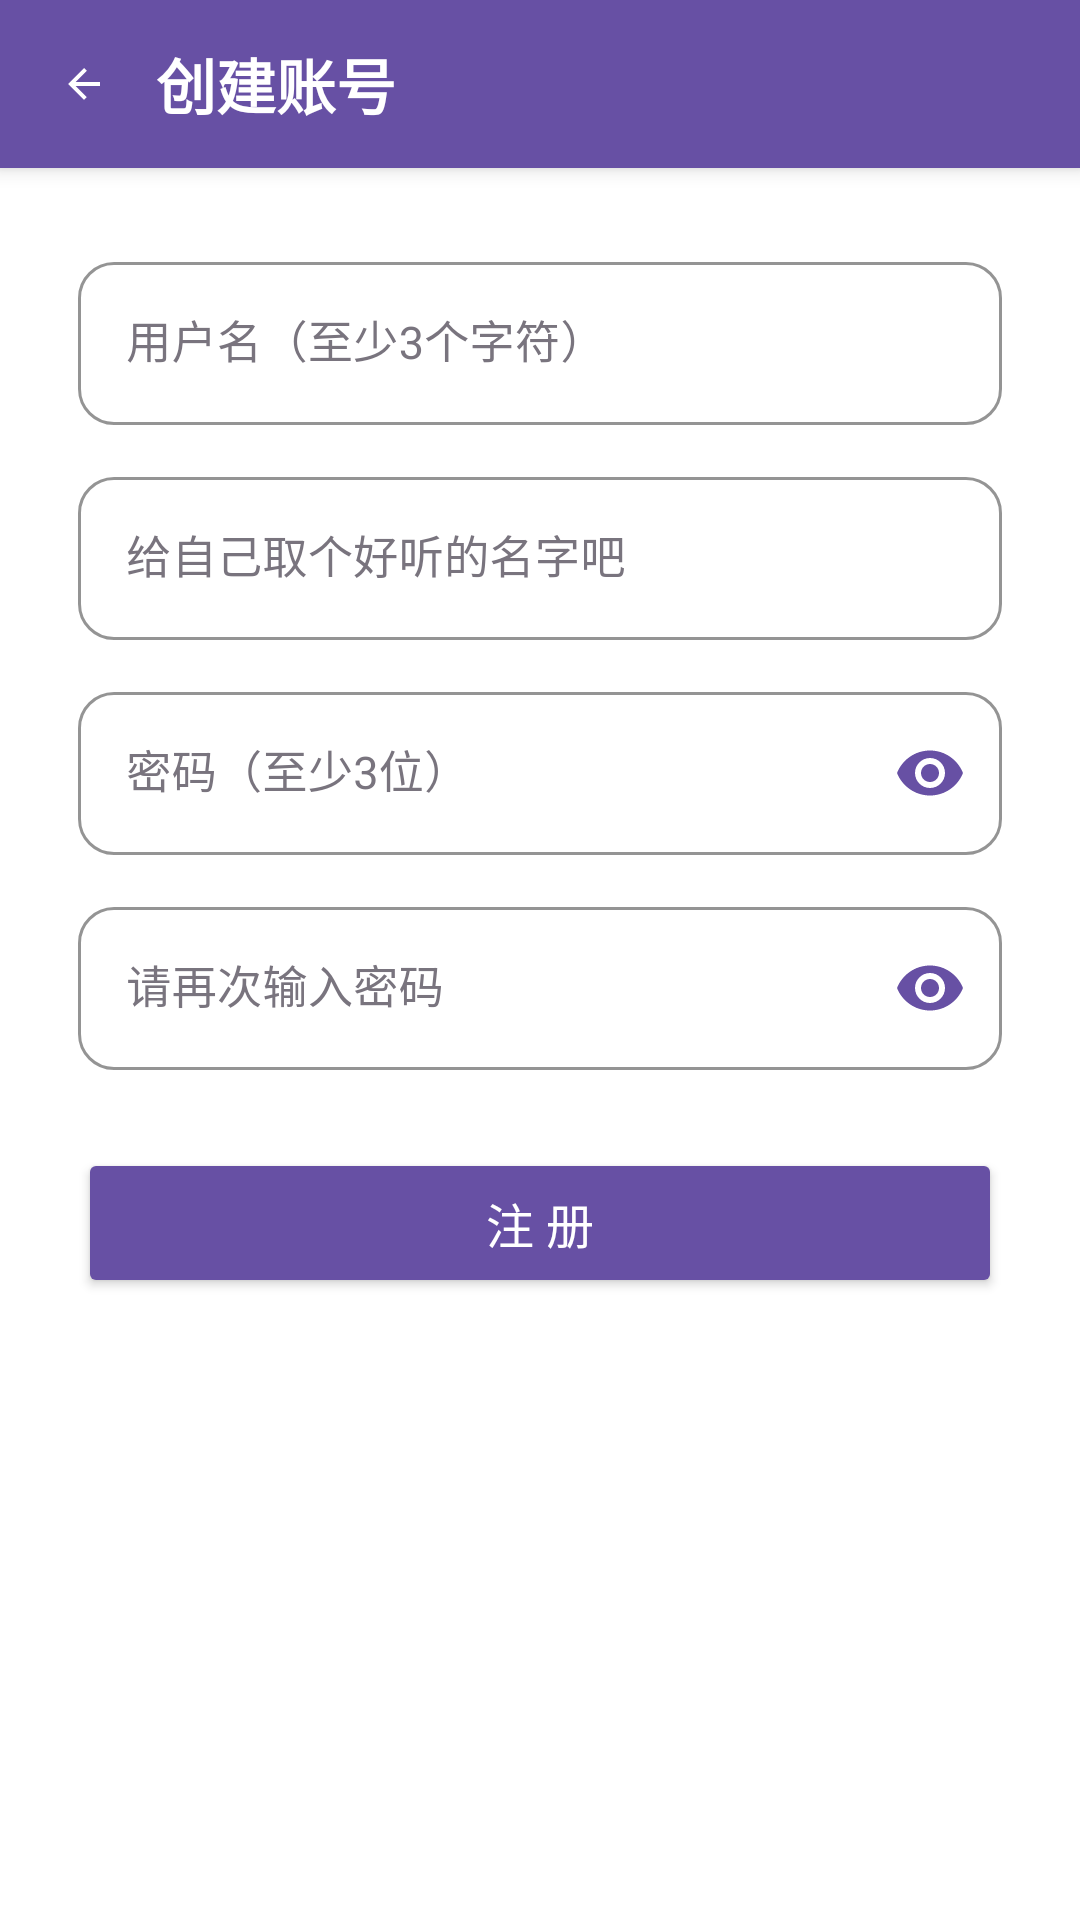

Icons on this 1080w x 1920h Android screen, each with its box as bbox=(x1, y1, x2, y2):
arrow back: bbox=(68, 68, 100, 100)
